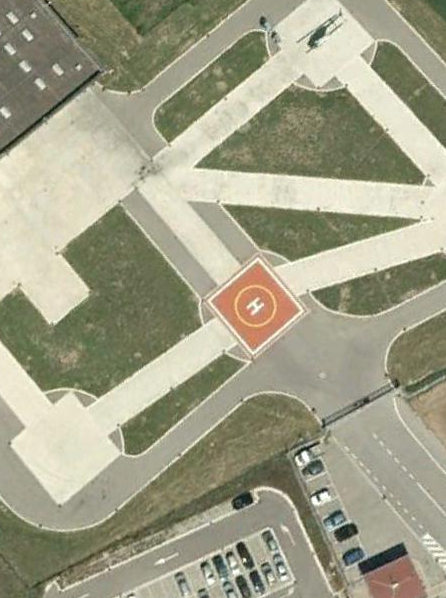heliport: (240, 294, 268, 318)
